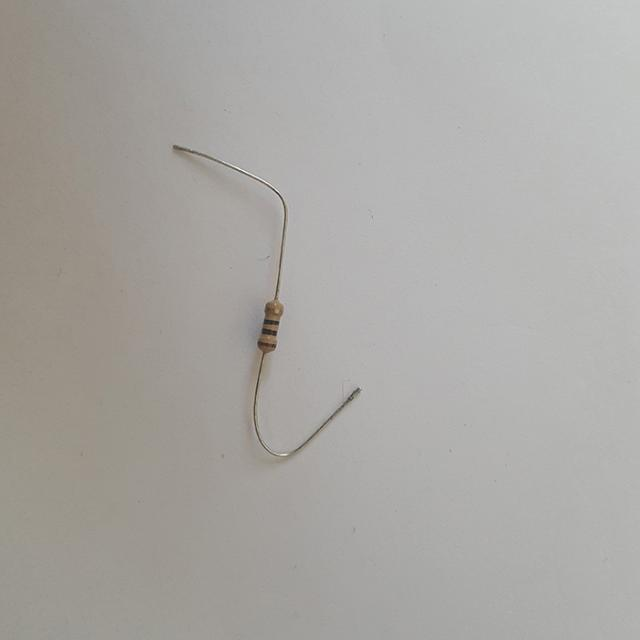black: (261, 328, 275, 334), (263, 319, 277, 325)
brown: (258, 341, 276, 347)
gold: (266, 306, 282, 314)
resistor: (246, 293, 295, 358)
